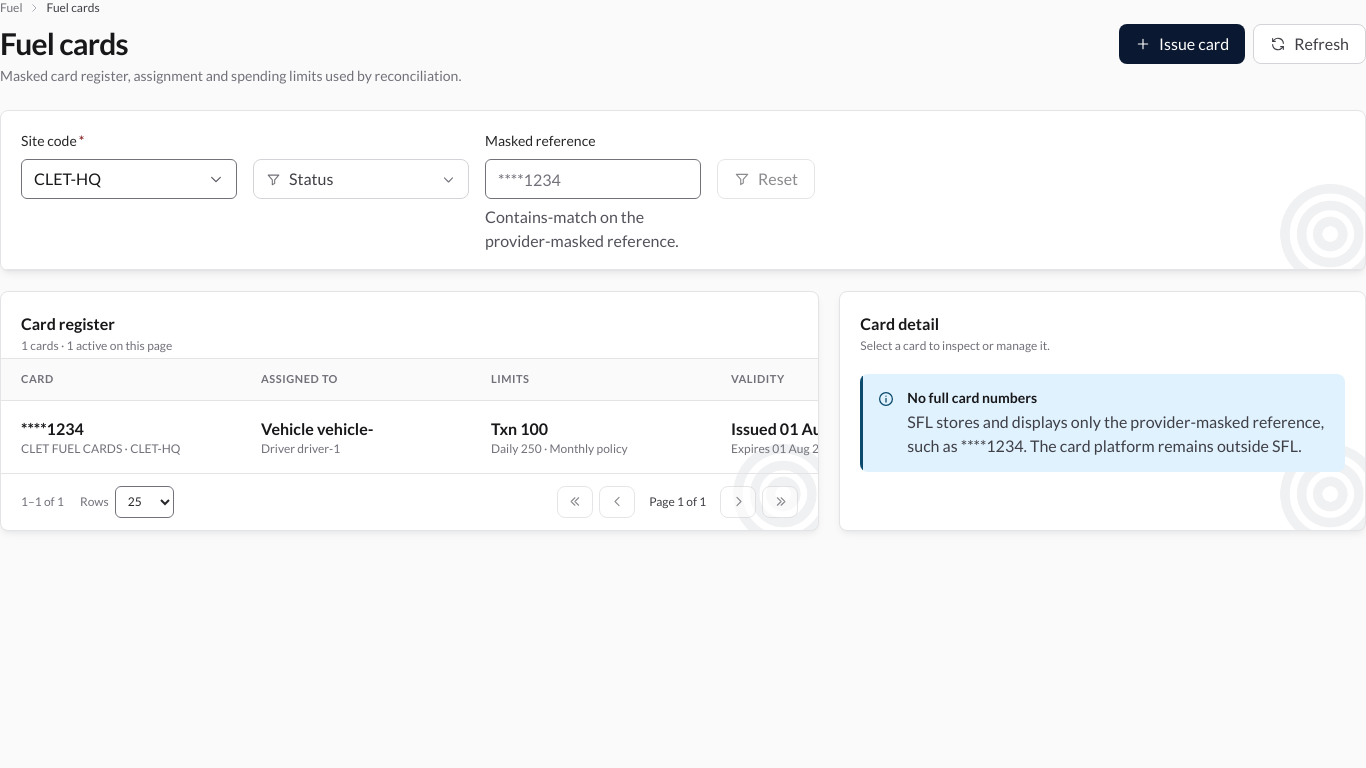
Test: FuelCardsPage › refuses full card numbers before they leave the browser
Expected: the text "****1234" is shown, x1=21 y1=418 x2=84 y2=438
Click the button "Issue card" at (1182, 44), box x1=1119 y1=24 x2=1245 y2=64
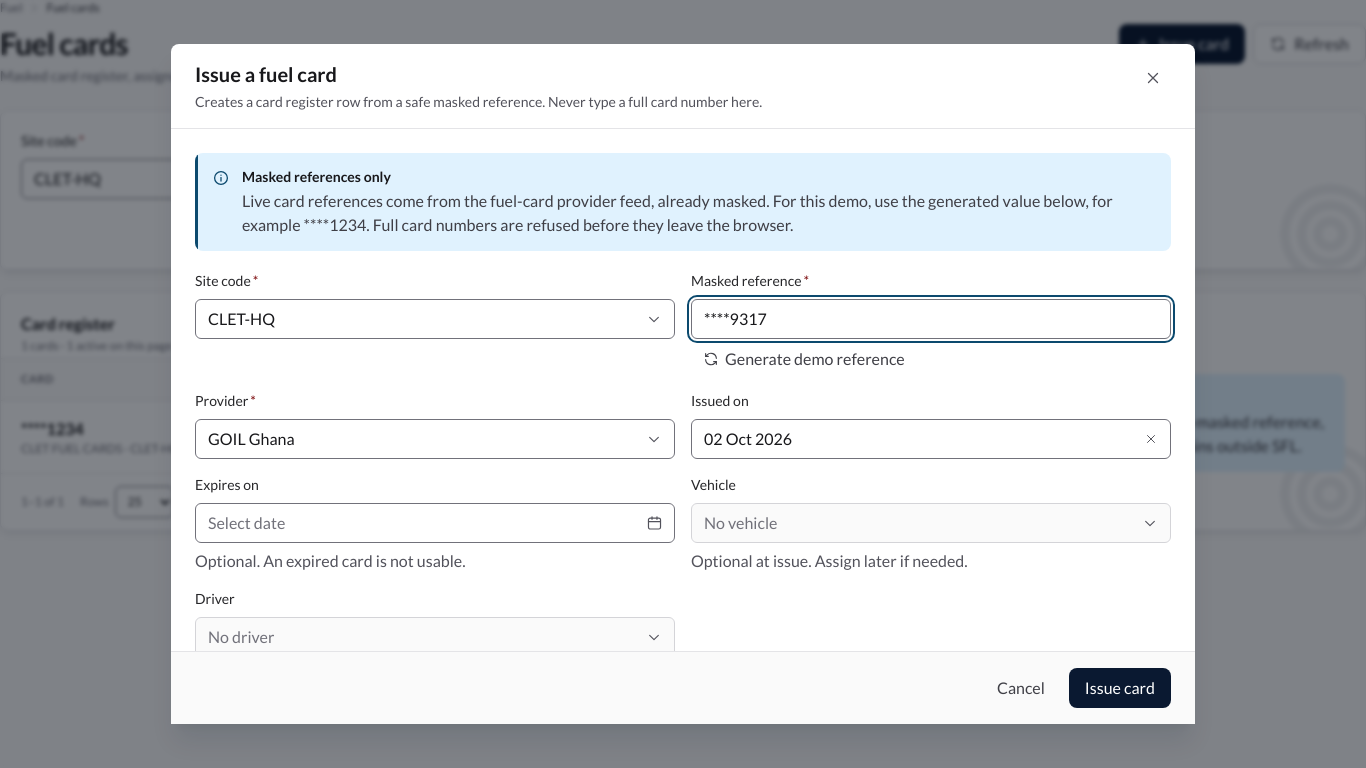
Replace the text in the field labelled "Masked reference*" with "1234567890123456" at (931, 319), box x1=691 y1=299 x2=1171 y2=339
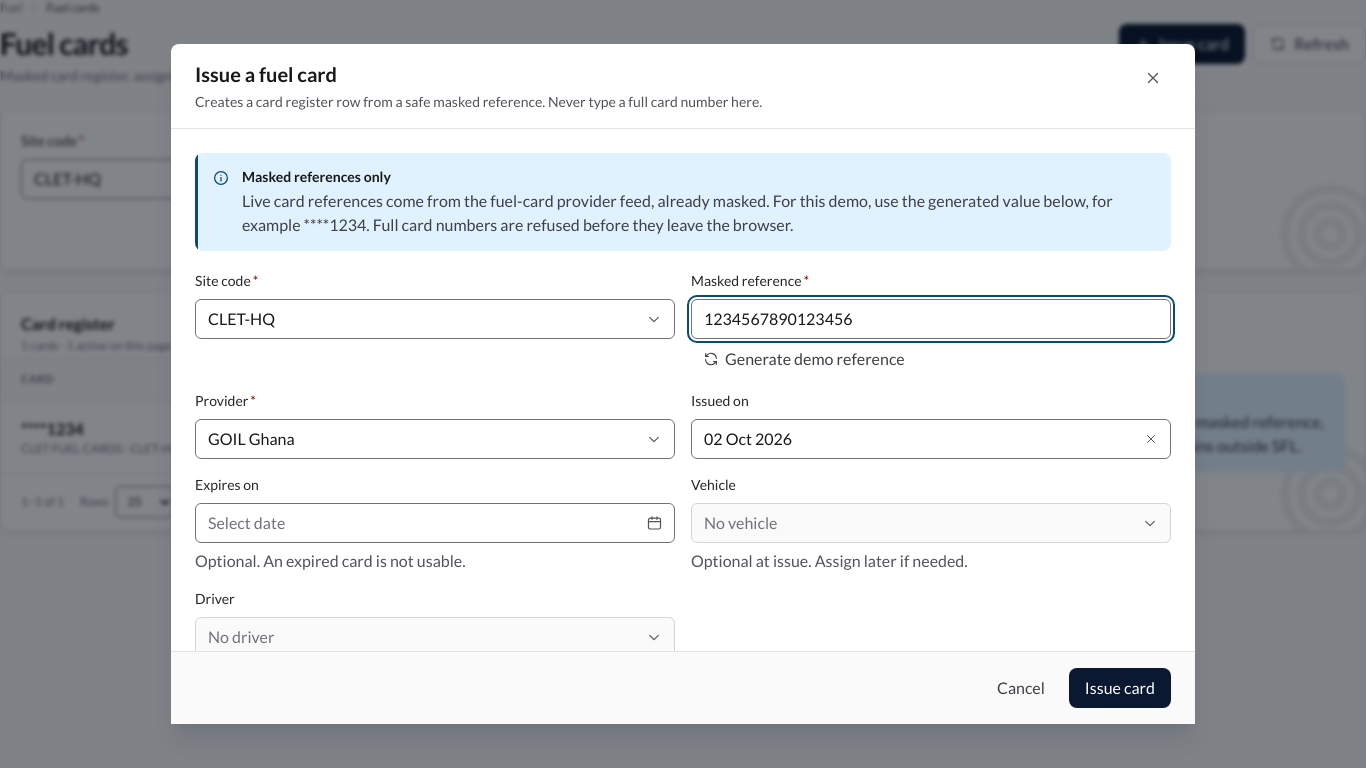
Click the button "Issue card" at (1120, 688), box x1=1069 y1=668 x2=1171 y2=708
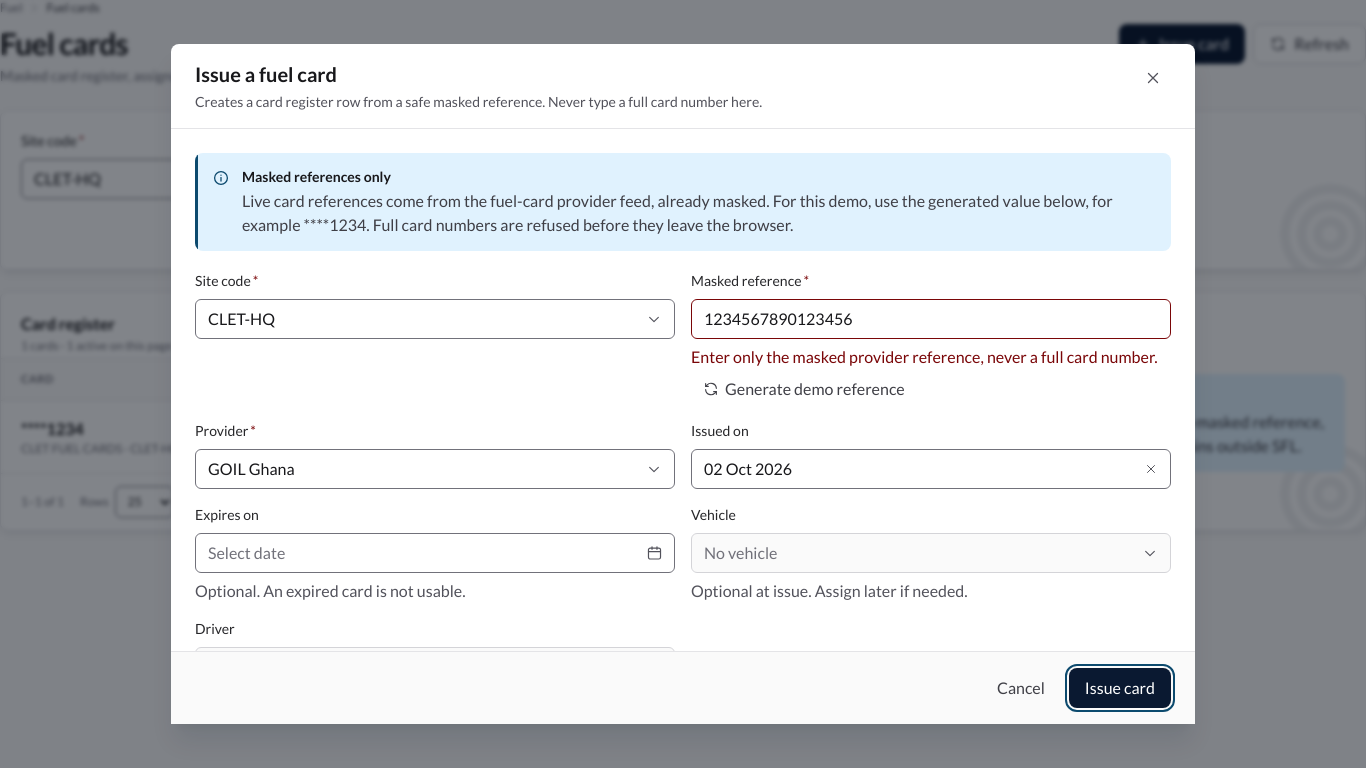
Now the text "Enter only the masked provider reference" is shown, box x1=691 y1=347 x2=1158 y2=366
